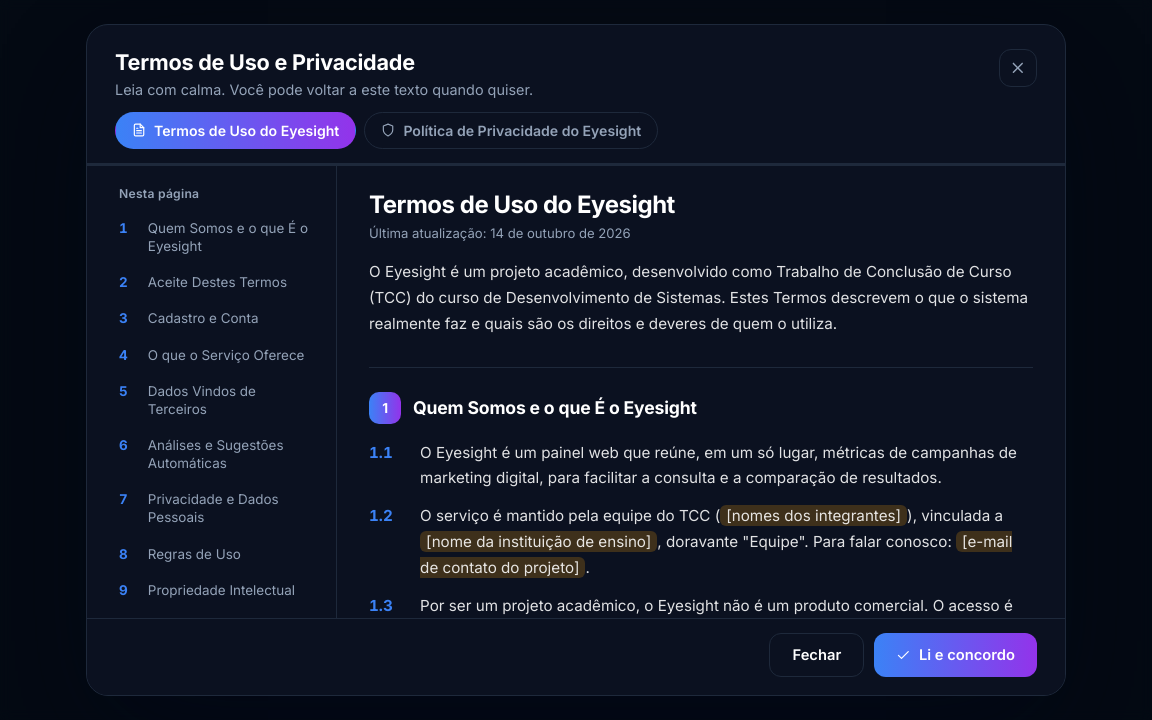
Scenario: TermsModal › troca para a Política de Privacidade e atualiza o índice
The image size is (1152, 720).
Click the tab "Política de Privacidade do Eyesight" at (511, 130), box [364, 112, 658, 149]
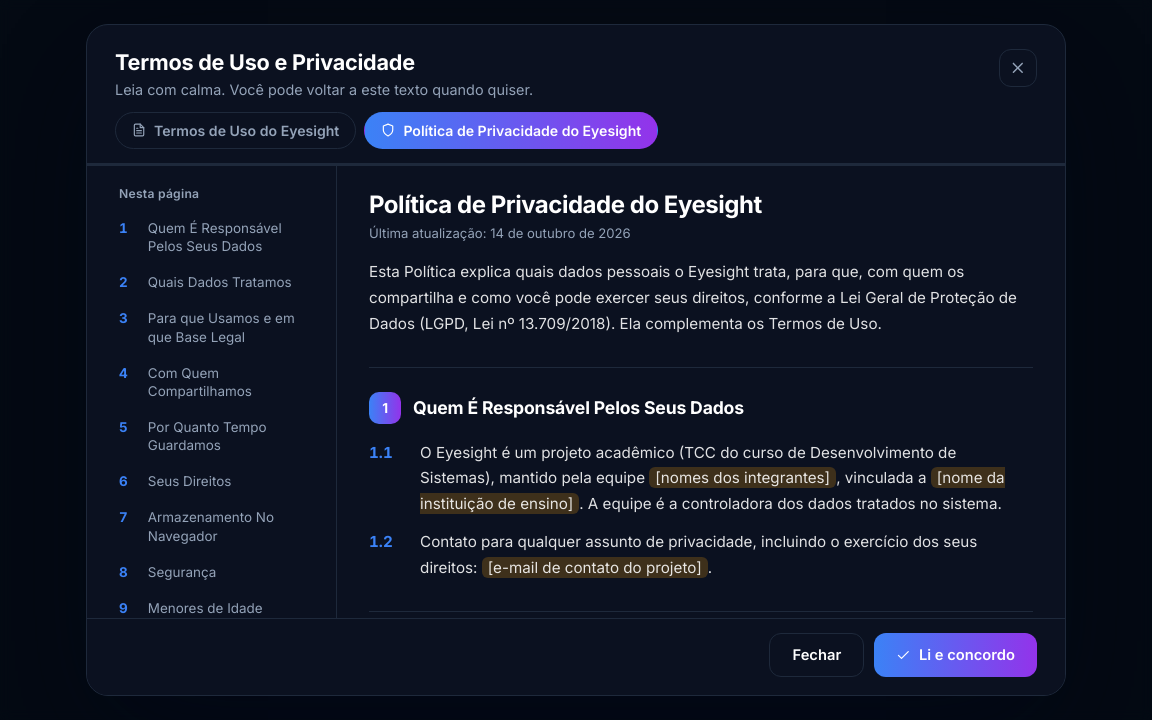
Expected: the heading "Política de Privacidade do Eyesight" is shown, [369, 190, 762, 219]
